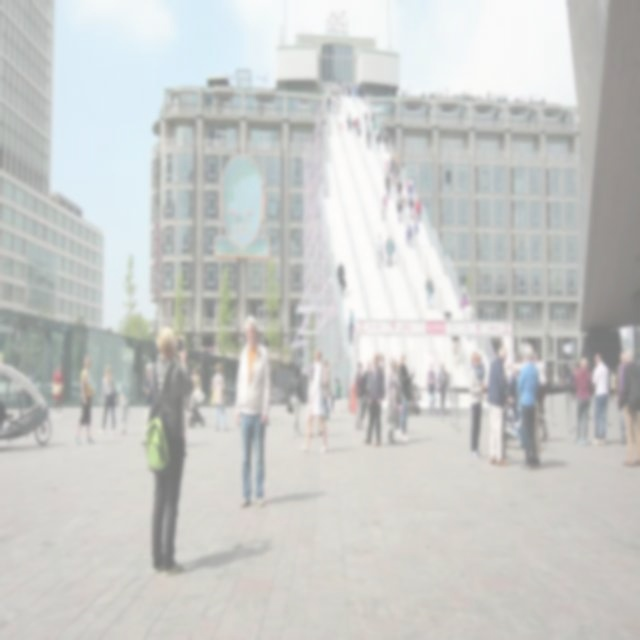pessoa: (144, 321, 196, 579), (234, 312, 272, 512), (298, 346, 329, 456), (515, 341, 540, 471), (485, 342, 510, 467), (516, 340, 539, 472), (618, 348, 640, 471), (361, 352, 386, 449), (72, 351, 96, 446), (185, 541, 268, 568), (572, 353, 594, 448), (468, 349, 486, 459), (396, 348, 416, 444), (590, 352, 610, 447), (97, 361, 118, 439), (533, 349, 550, 444), (285, 364, 306, 440), (385, 352, 401, 445), (210, 360, 230, 433), (614, 348, 628, 447), (306, 360, 323, 440), (140, 360, 154, 447), (353, 357, 366, 432), (50, 360, 65, 420), (361, 358, 374, 424), (436, 360, 448, 418), (508, 358, 520, 413), (320, 358, 330, 422), (118, 390, 131, 438), (426, 362, 438, 414), (474, 352, 486, 399), (564, 362, 578, 402), (190, 364, 202, 408), (394, 378, 404, 430), (330, 374, 342, 414), (384, 232, 396, 268), (424, 270, 434, 310), (337, 260, 347, 299), (388, 358, 400, 388), (463, 297, 476, 324), (609, 368, 617, 401), (376, 232, 384, 264), (400, 190, 408, 222), (406, 221, 414, 251), (412, 217, 420, 247), (384, 170, 392, 200), (348, 308, 354, 346), (414, 196, 422, 224), (392, 154, 400, 182), (407, 193, 415, 220), (382, 192, 389, 220), (396, 176, 404, 199), (370, 114, 377, 140), (460, 292, 470, 310), (396, 194, 402, 224), (341, 81, 351, 99), (386, 158, 392, 186), (389, 154, 395, 182), (391, 170, 398, 194), (355, 114, 362, 138), (262, 412, 273, 427), (378, 352, 386, 372), (368, 110, 376, 130), (364, 126, 370, 152), (406, 176, 412, 200), (408, 178, 414, 202), (383, 130, 389, 154), (376, 130, 382, 154), (351, 80, 357, 104), (382, 157, 388, 180), (365, 120, 371, 143), (356, 82, 364, 98), (346, 111, 352, 132), (326, 94, 332, 114), (332, 93, 337, 116), (337, 95, 343, 114), (392, 144, 398, 162), (378, 121, 384, 139), (364, 109, 369, 128), (337, 77, 342, 96), (338, 120, 344, 134), (353, 117, 358, 131)
